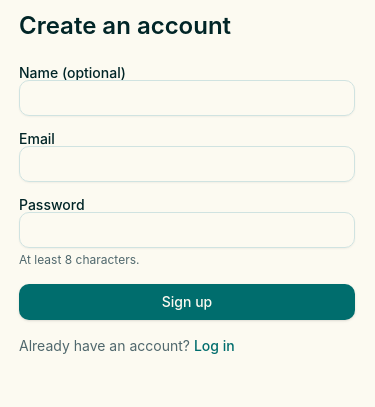
Test: RegisterPage › surfaces a conflict error (duplicate email) without crashing
Type "dupe@example.com" into the field labelled "Email". click: (187, 164)
box: [19,146,355,182]
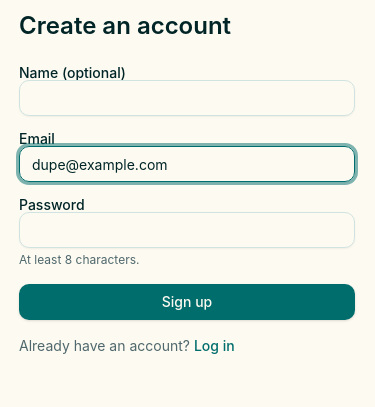
Type "a-strong-password" into the password field labelled "Password". click: (187, 230)
box: [19,212,355,248]
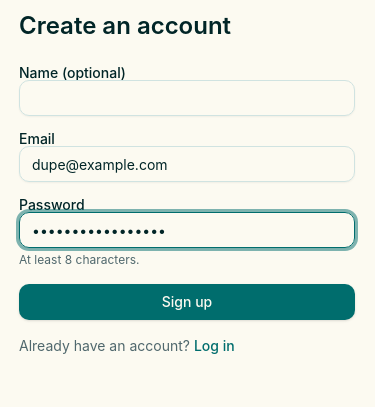
Click the button "Sign up". click: (187, 302)
box: [19,284,355,320]
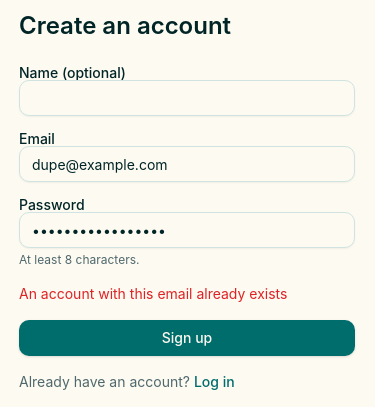
Expected: the text "An account with this email already exists" is shown, [19,285,287,302]
